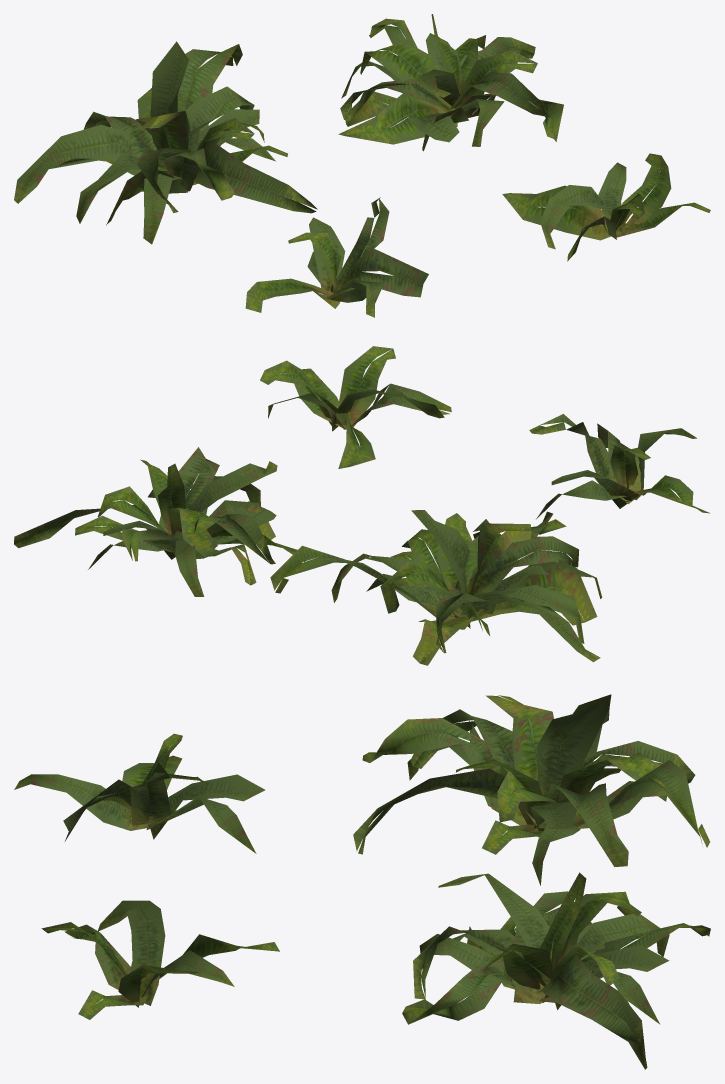
Rendered from fern.glb.
The picture shows the model from 3 angles, top to bottom: view 1: azimuth 30°, elevation 25°; view 2: azimuth 150°, elevation 25°; view 3: azimuth 270°, elevation 25°; orthographic projection. The views are drawn at different scales.
Parts seen in each view (by area): view 1: fern; view 2: fern; view 3: fern.
Part boxes in pixels (<box>): fern: <box>14,14,710,317</box>; fern: <box>14,346,709,665</box>; fern: <box>14,694,710,1069</box>.
Bounding box in the file's own units: 4.49 × 1 × 3.94.
Materials: 1 (1 with a texture image).
